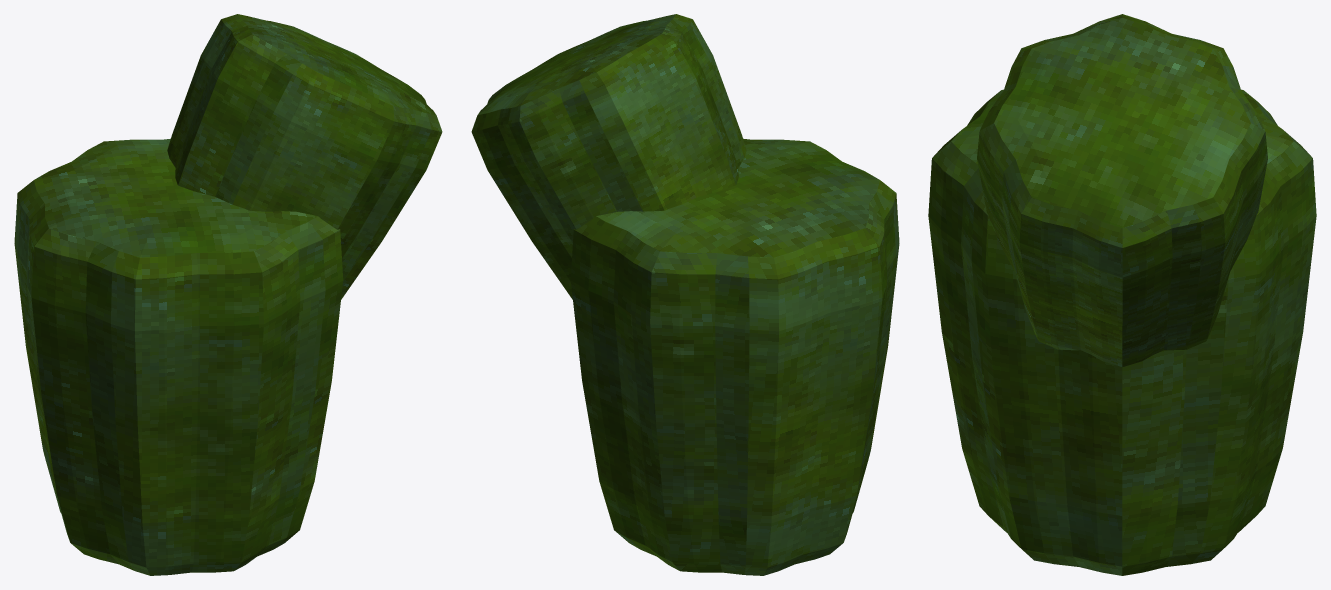
File: Small_Cactus.fbx
3 views of the same model, side by side, from view 1: azimuth 30°, elevation 25°; view 2: azimuth 150°, elevation 25°; view 3: azimuth 270°, elevation 25° (orthographic). The views are drawn at different scales.
Visible parts, largest first — view 1: Small_Cactus; view 2: Small_Cactus; view 3: Small_Cactus.
Boxes of the visible parts, x1,y1,x2,y2 form: Small_Cactus: (14,14,442,575); Small_Cactus: (471,14,899,575); Small_Cactus: (928,14,1316,575).
Bounding box in the file's own units: 115 × 137 × 86.29.
Materials: 1 (1 with a texture image).
